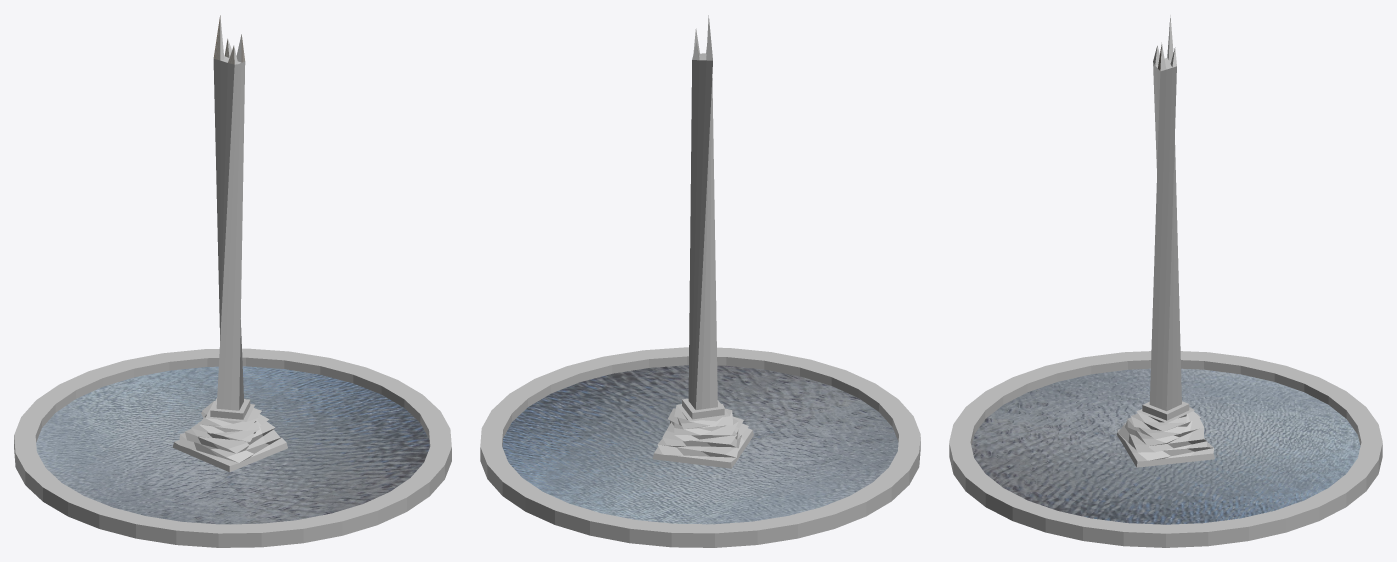
File: Campanile.fbx
The picture shows the model from 3 angles, left to right: view 1: azimuth 30°, elevation 25°; view 2: azimuth 150°, elevation 25°; view 3: azimuth 270°, elevation 25°; orthographic projection.
Parts seen in each view (by area): view 1: Cylinder, Cube; view 2: Cylinder, Cube; view 3: Cylinder, Cube.
Boxes of the visible parts, left/top/right/bottom form: Cylinder: left=14, top=348, right=451, bottom=547; Cube: left=172, top=15, right=287, bottom=472; Cylinder: left=480, top=347, right=920, bottom=547; Cube: left=652, top=15, right=753, bottom=468; Cylinder: left=949, top=351, right=1382, bottom=547; Cube: left=1117, top=15, right=1214, bottom=467.
Size of the model in its own units: 10507 by 11692 by 10507.
